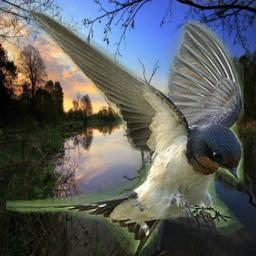Swallow: (6, 4, 244, 256)
